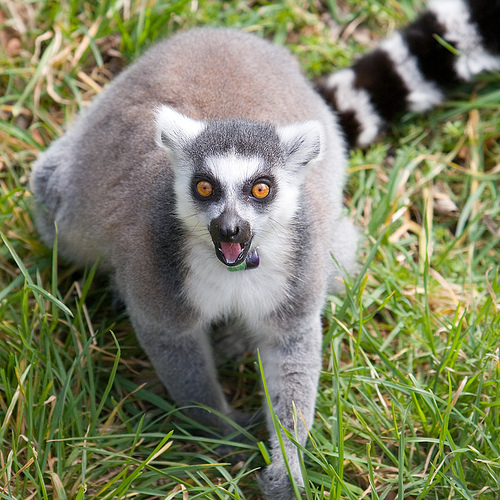cat: (25, 1, 498, 498)
